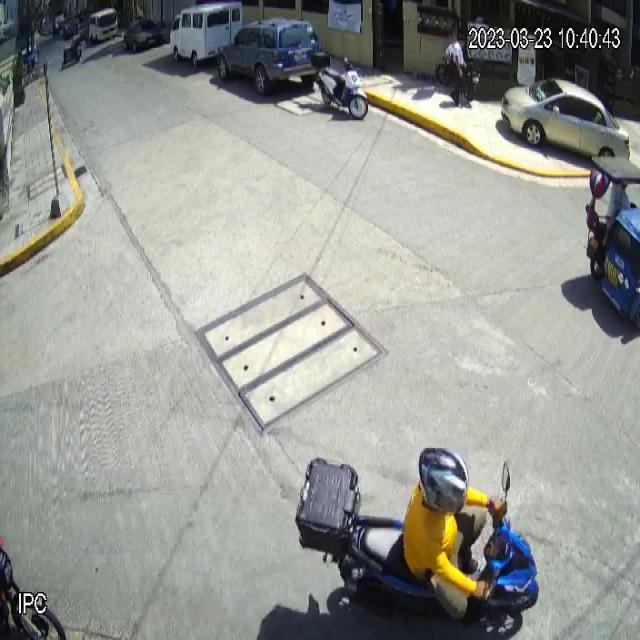Car: (501, 75, 632, 172), (216, 16, 323, 96)
Motorcycle: (295, 458, 543, 630), (311, 48, 369, 120)
Van: (169, 0, 242, 69)
